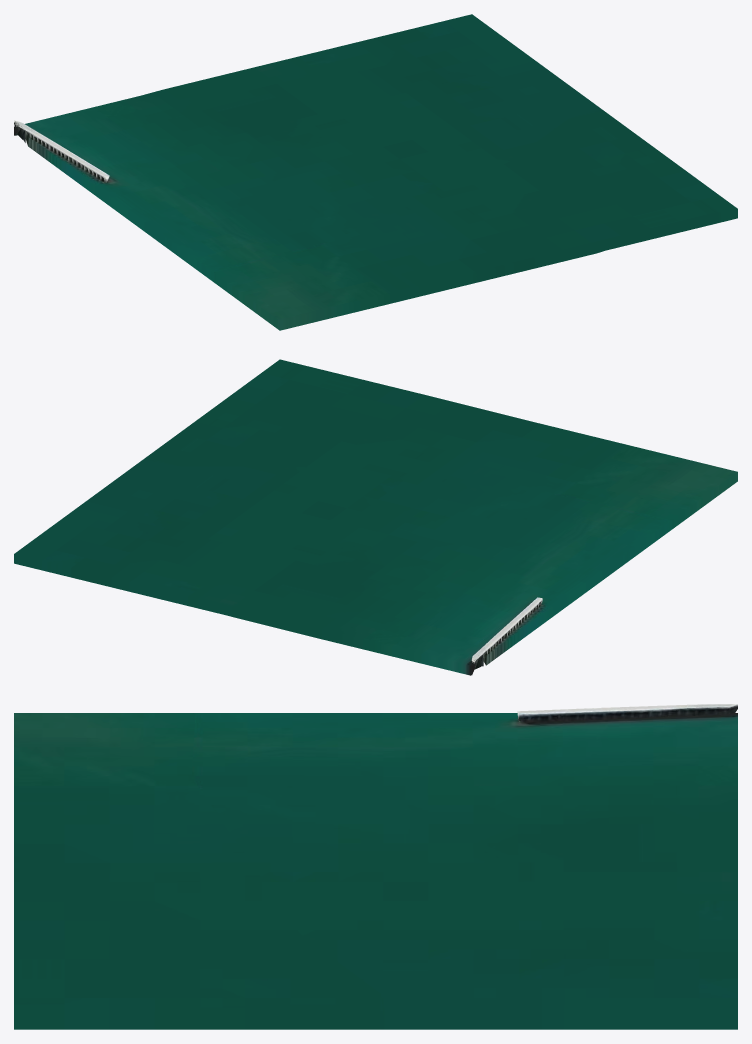
The model's file is z17-20964-50644-h0-yup-uvflip-v3-world.glb.
The picture shows the model from 3 angles, top to bottom: view 1: azimuth 30°, elevation 25°; view 2: azimuth 150°, elevation 25°; view 3: azimuth 270°, elevation 25°; orthographic projection. The views are drawn at different scales.
Bounding box in the file's own units: 241 × 8 × 243.
Materials: 1 (1 with a texture image).
